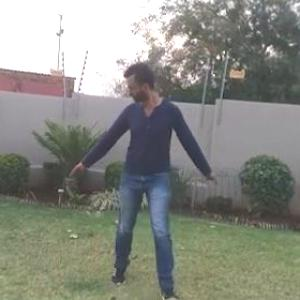land: (77, 61, 229, 296)
